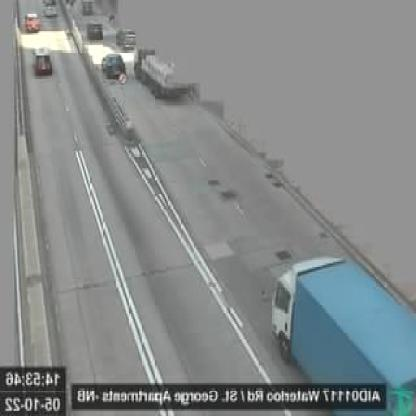Car: (102, 54, 126, 81), (34, 47, 52, 74), (87, 20, 104, 42), (27, 10, 42, 28)
Truck: (272, 256, 416, 414)
